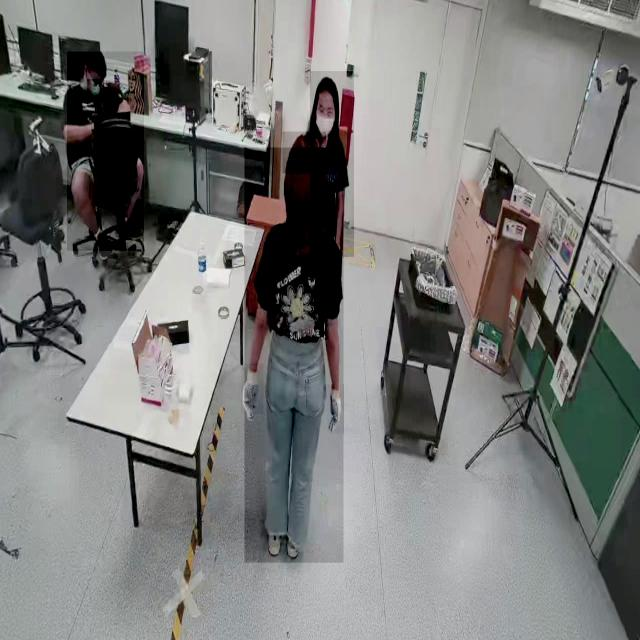face_mask: (314, 110, 338, 147), (87, 79, 101, 107)
hand_glove: (241, 364, 264, 415), (327, 384, 345, 435)
head_nohelmet: (282, 132, 326, 174), (314, 74, 339, 98), (83, 46, 107, 68)
person: (244, 147, 344, 564), (67, 52, 145, 252), (310, 71, 354, 258)
